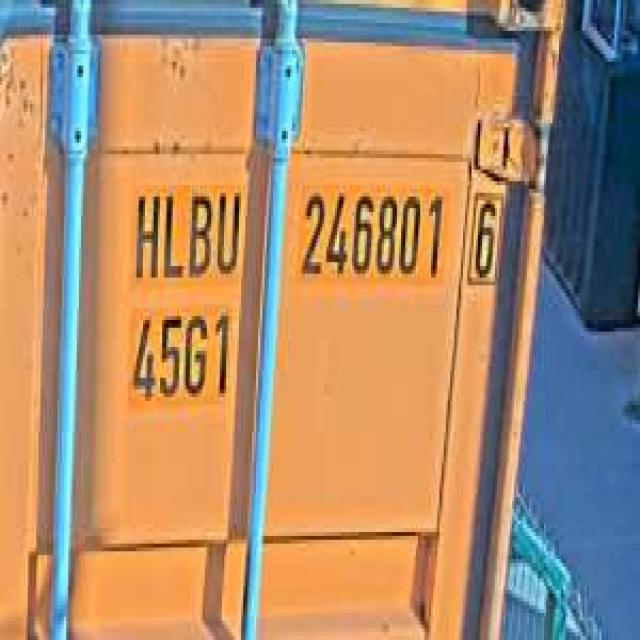dv: (463, 177, 506, 293)
owner: (130, 178, 245, 282)
serial: (294, 181, 446, 289)
size: (126, 301, 232, 408)
